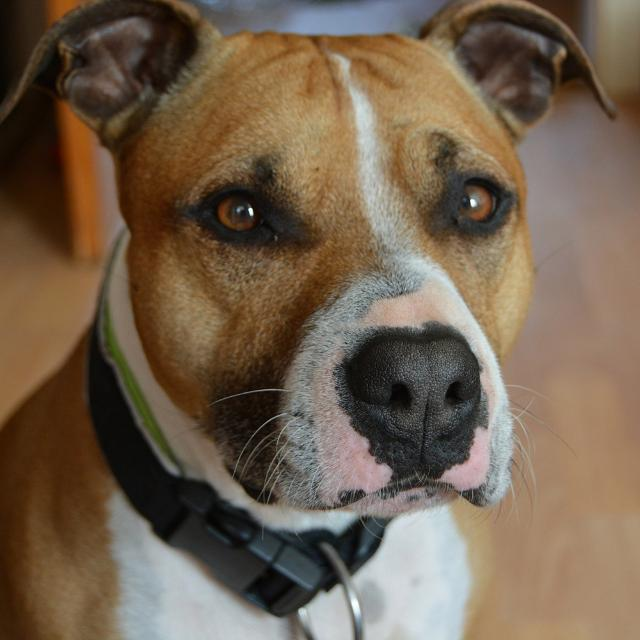am_pit_bull_terrier: (2, 1, 618, 639)
